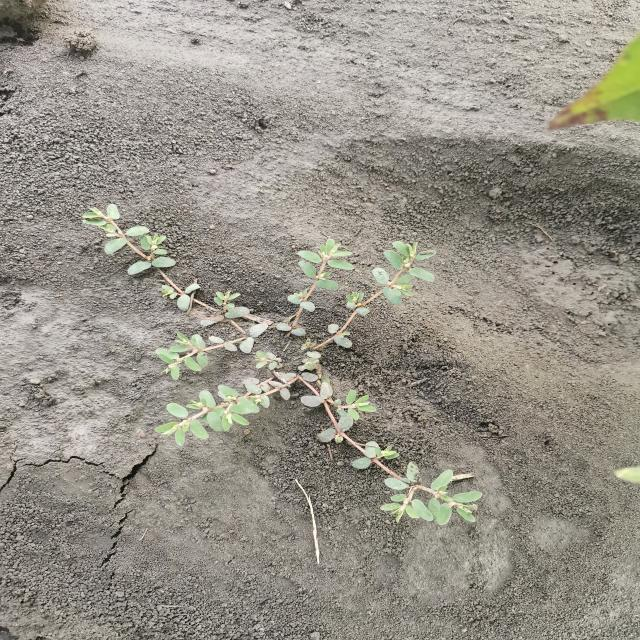SpottedSpurge: (80, 201, 487, 528)
